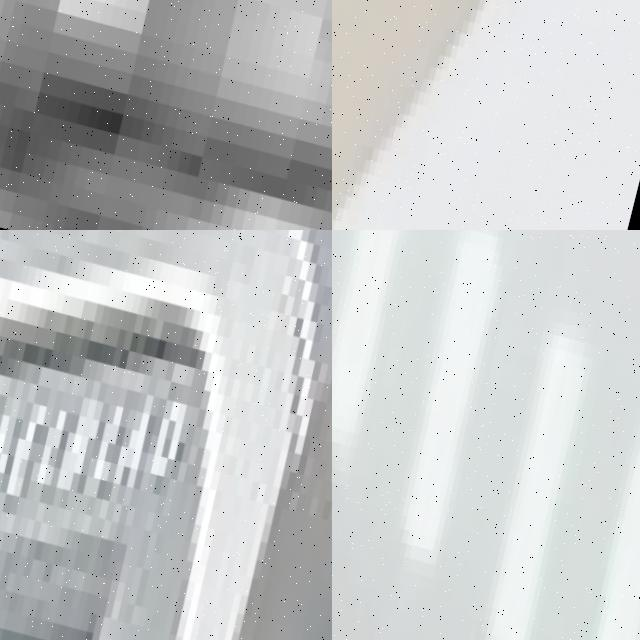0: (0, 0, 332, 230)
drone: (0, 230, 332, 640), (332, 230, 640, 640), (332, 0, 640, 230)
